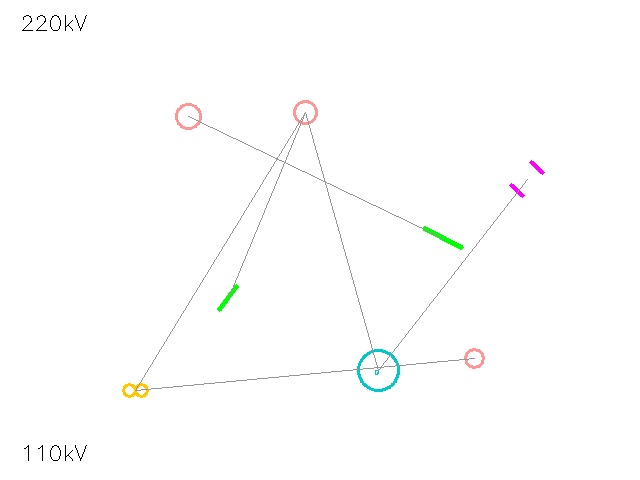busbar: (417, 212, 469, 264), (210, 280, 246, 316)
capacitor: (502, 154, 552, 204)
current_transformer: (282, 89, 328, 135)
fuse: (163, 91, 213, 141), (456, 340, 492, 376)
generator: (358, 350, 398, 390)
transformer_2w: (120, 375, 150, 405)
